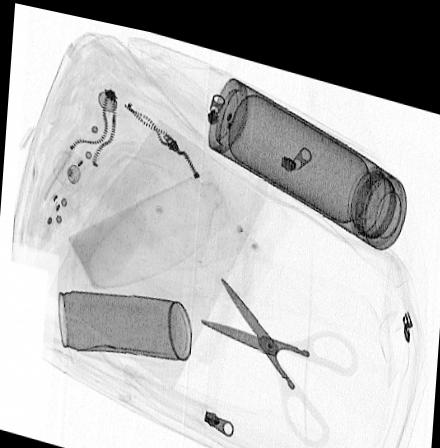Scissors: (197, 264, 360, 435)
